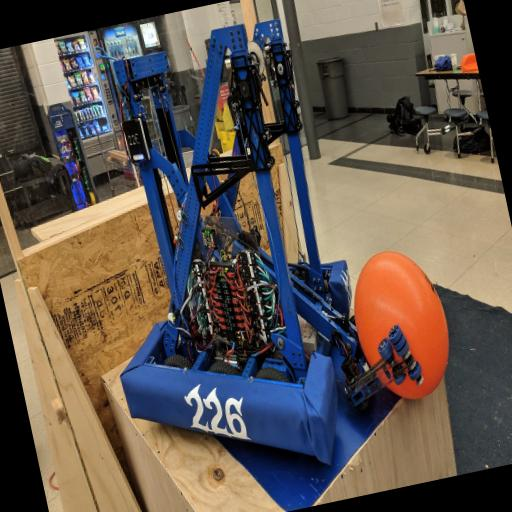robot: (54, 0, 472, 505)
